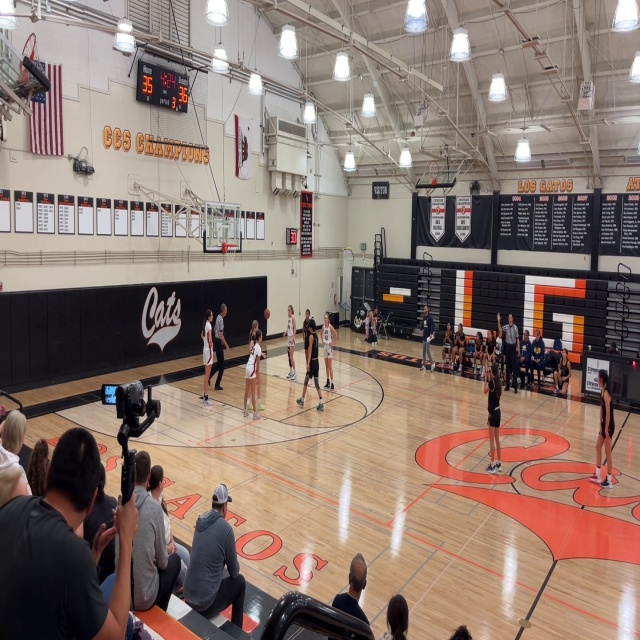Basketball: (263, 308, 270, 319)
